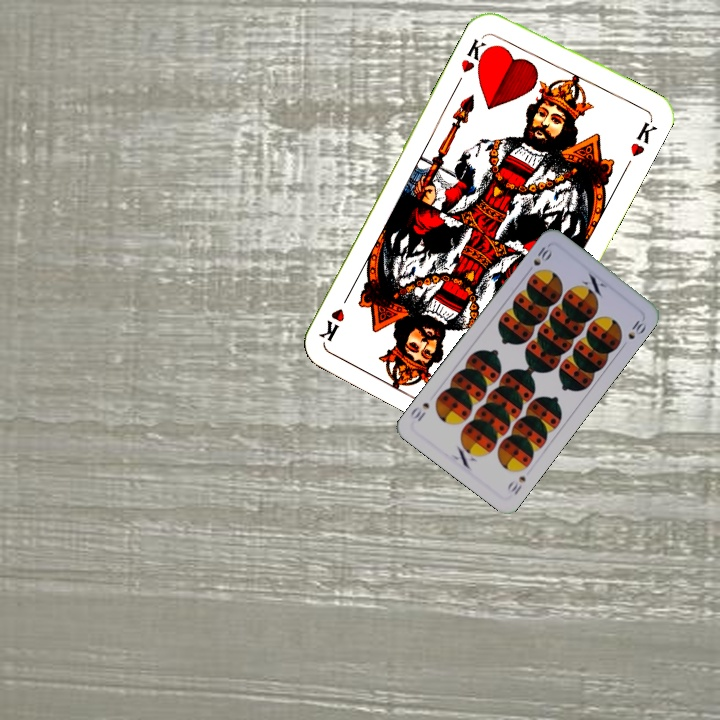HK: (456, 34, 494, 76)
S10: (523, 241, 554, 276), (508, 472, 528, 498)
